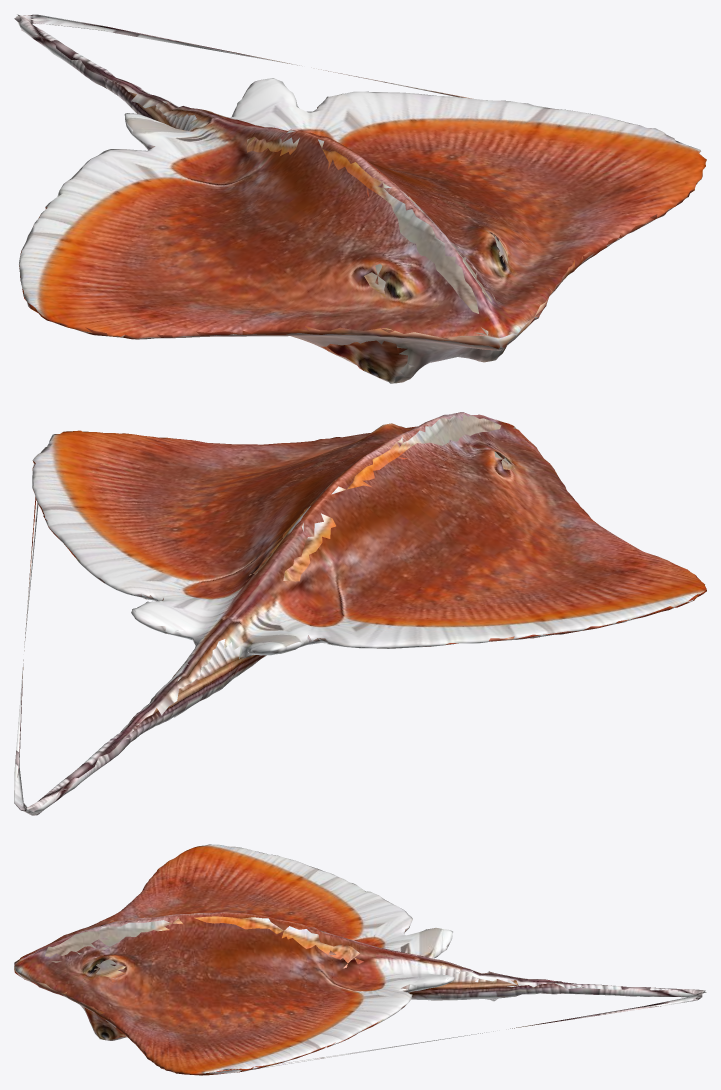
Rendered from fish_stingray.glb.
The picture shows the model from 3 angles, top to bottom: view 1: azimuth 30°, elevation 25°; view 2: azimuth 150°, elevation 25°; view 3: azimuth 270°, elevation 25°; orthographic projection. The views are drawn at different scales.
Visible parts, largest first — view 1: orient; view 2: orient; view 3: orient.
Boxes of the visible parts, x1,y1,x2,y2 form: orient: (14, 14, 706, 383); orient: (14, 412, 706, 815); orient: (14, 844, 706, 1075).
Size of the model in its own units: 1.11 by 0.2532 by 1.42.
1 material, 1 textured.
